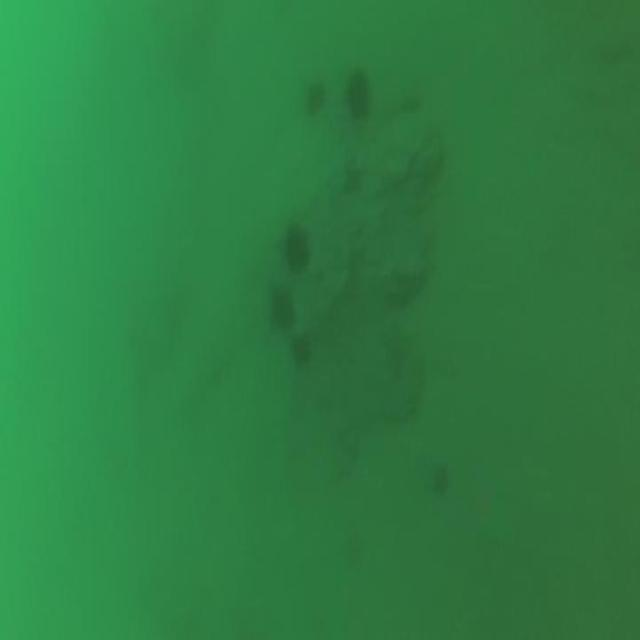echinus: (280, 220, 316, 278), (344, 65, 378, 123), (266, 283, 300, 338), (303, 74, 326, 120)
starfish: (338, 145, 369, 199)
